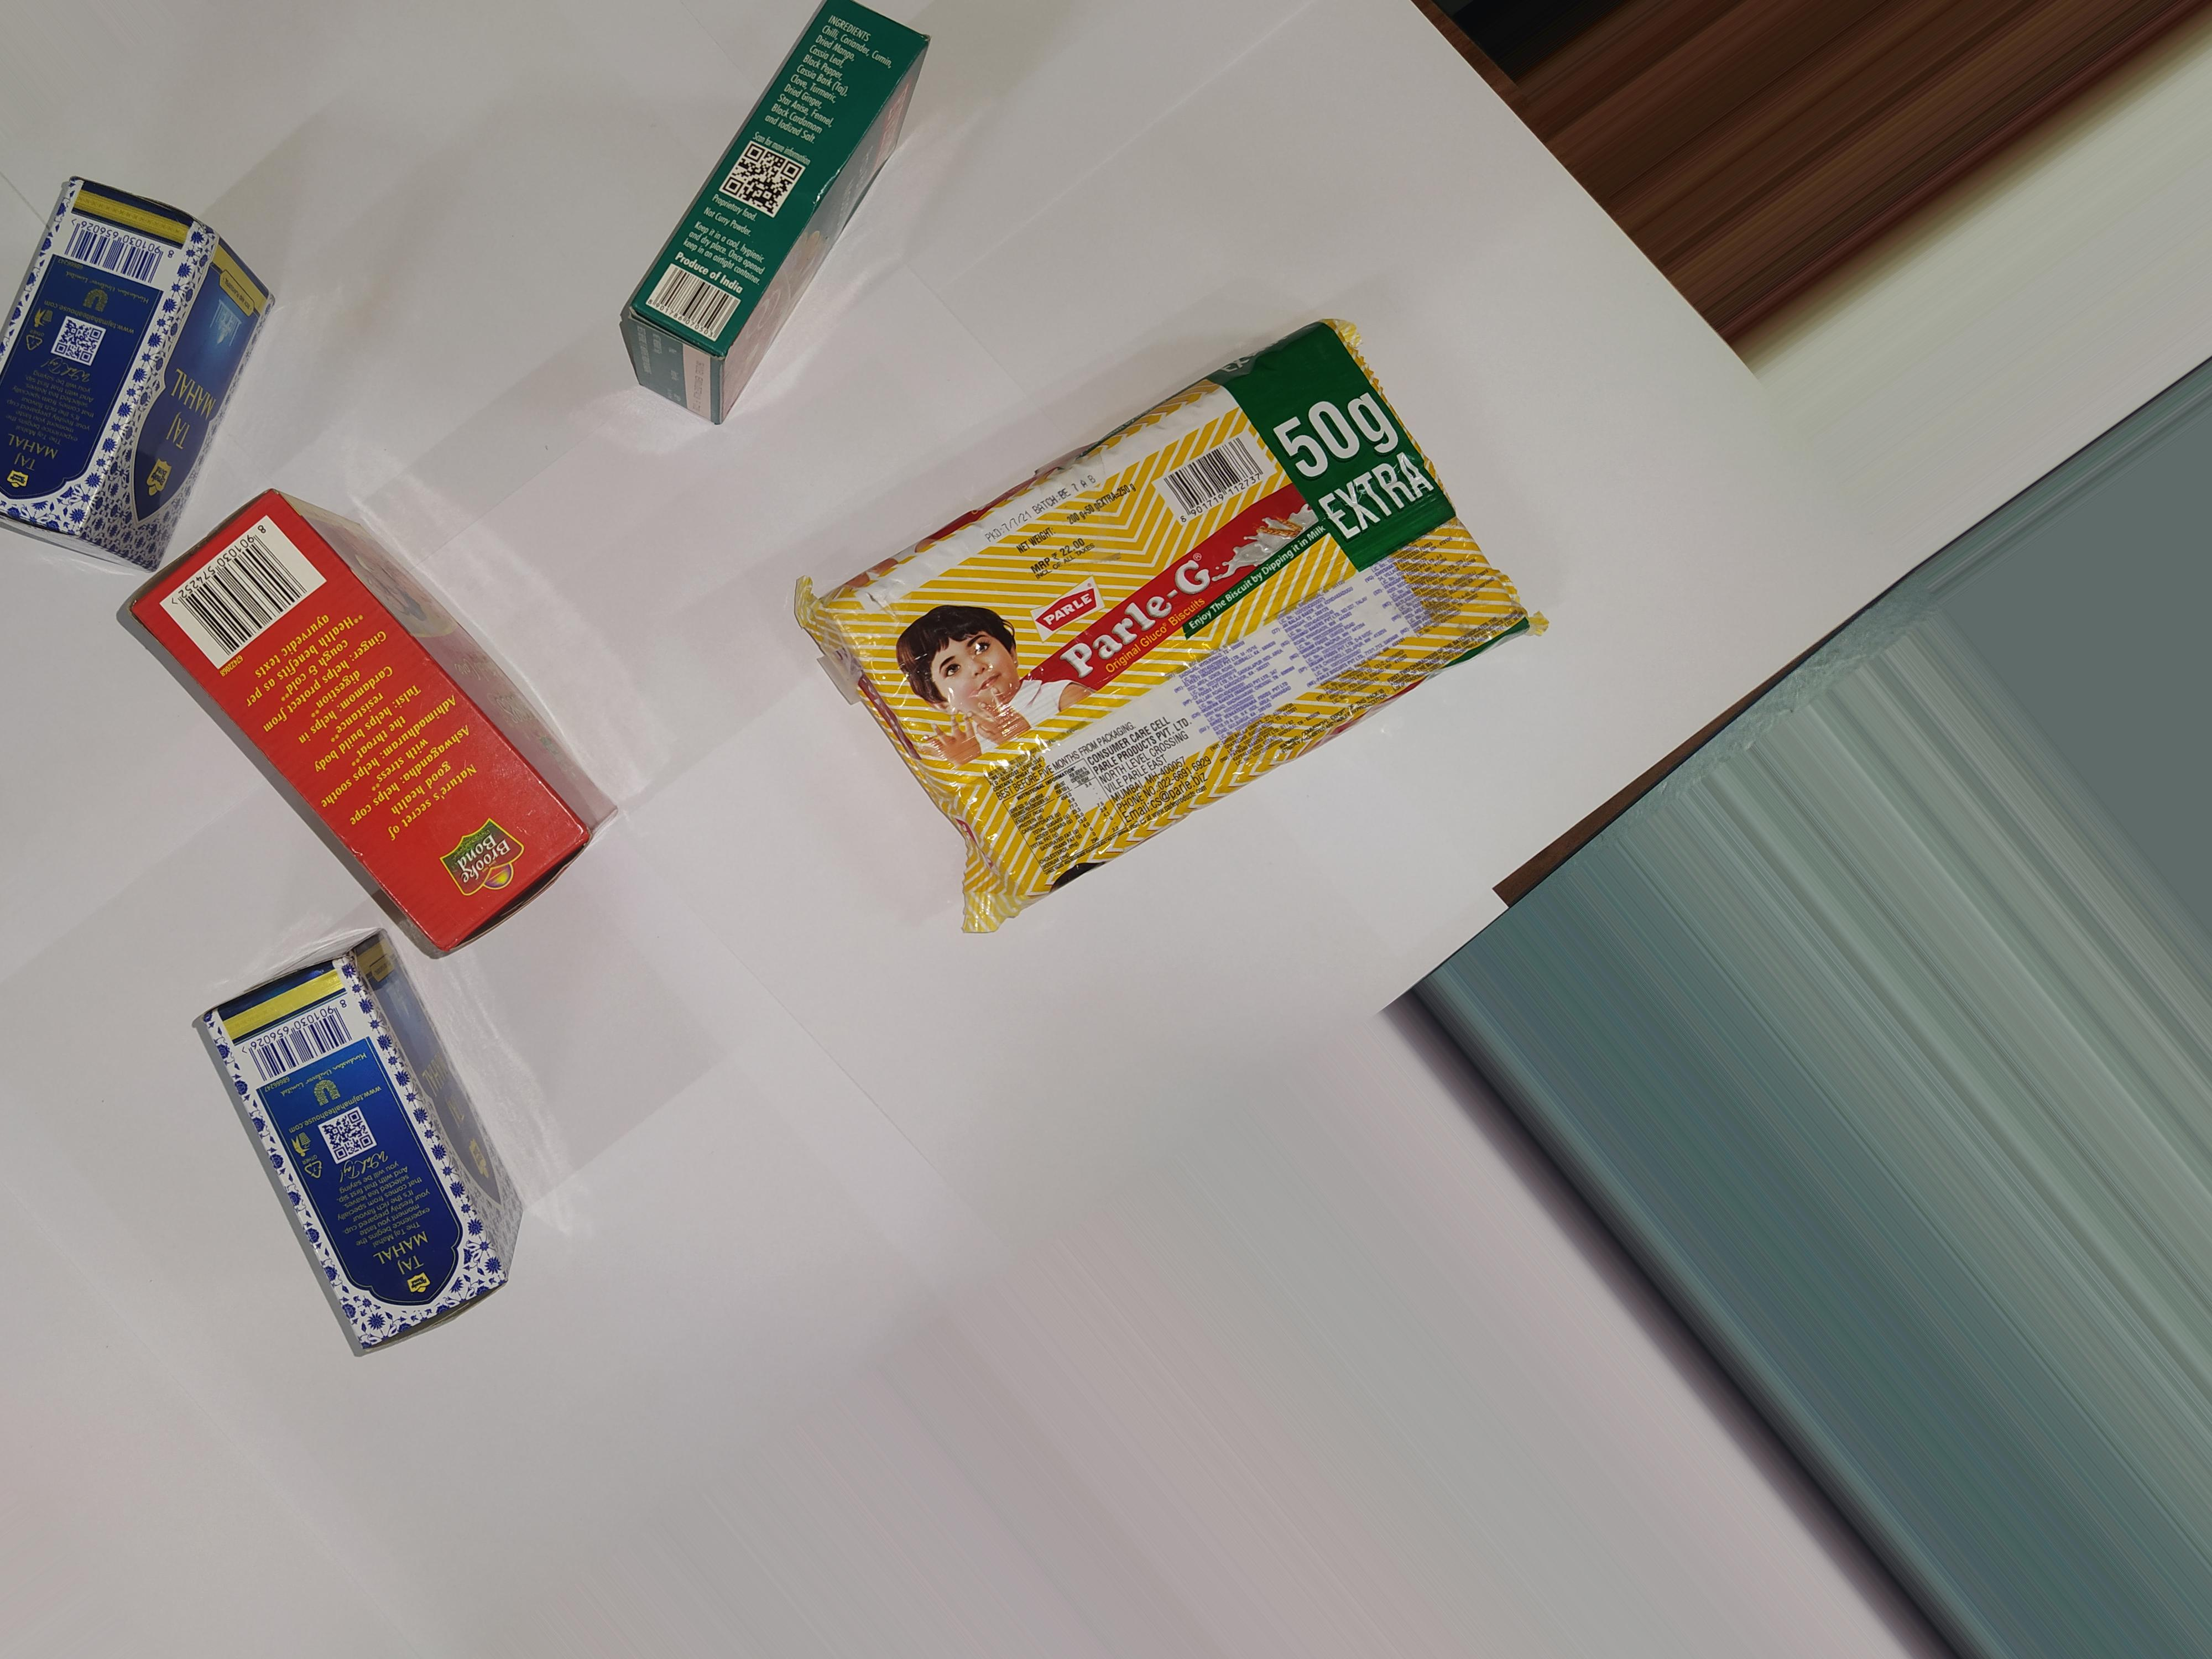Bar_code: (146, 514, 333, 676), (240, 992, 383, 1086), (1146, 436, 1291, 526), (47, 214, 169, 298), (641, 260, 751, 350)
Item: (831, 317, 1522, 946), (101, 497, 669, 941), (176, 910, 658, 1399), (599, 0, 939, 450), (0, 132, 261, 579)
QR_code: (709, 131, 824, 230), (54, 324, 111, 373)
